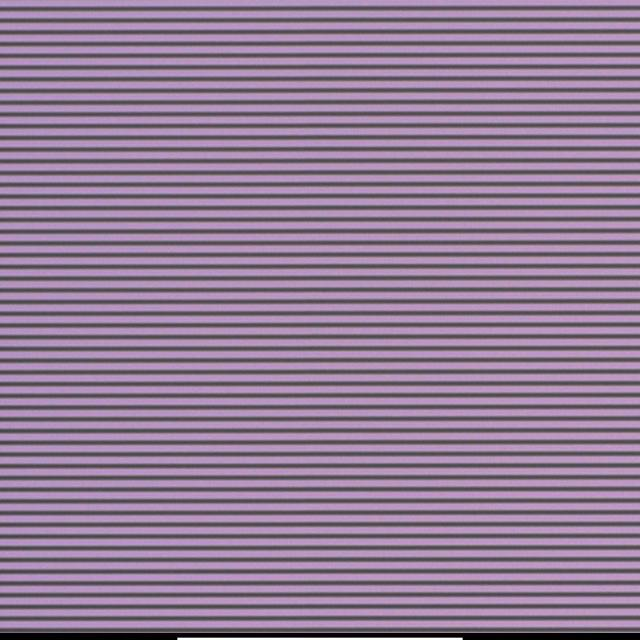nonvisual: (317, 286, 326, 298)
